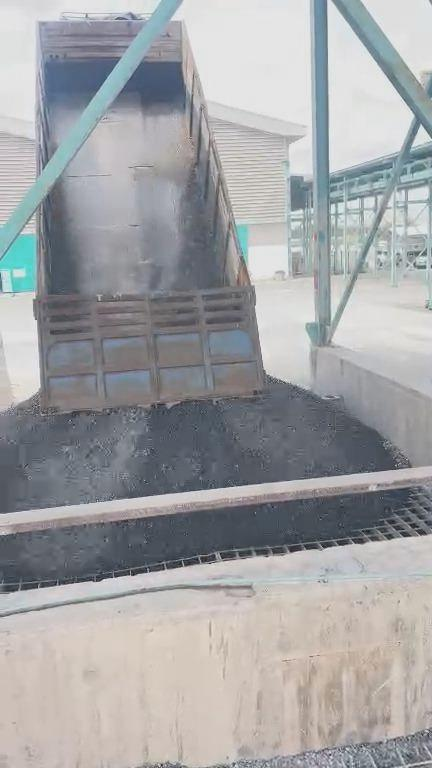gravel: (1, 381, 397, 511), (1, 492, 406, 580), (231, 730, 432, 767)
